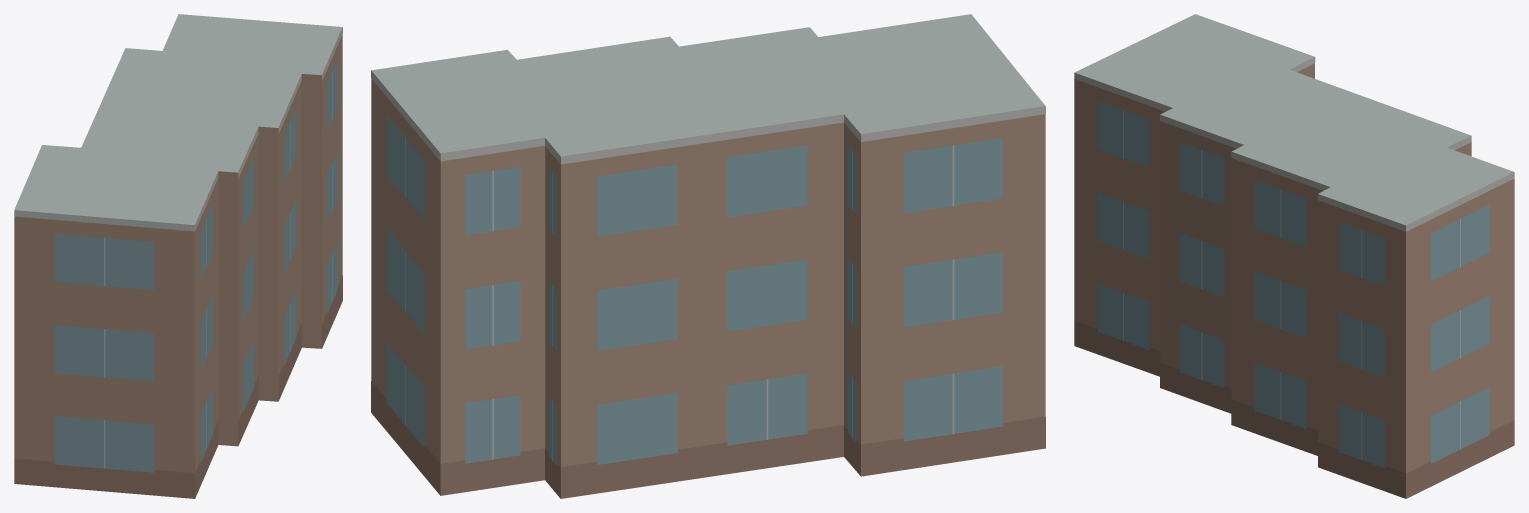
Rendered from survey-upis-32677777.glb.
The picture shows the model from 3 angles, left to right: view 1: azimuth 30°, elevation 25°; view 2: azimuth 150°, elevation 25°; view 3: azimuth 270°, elevation 25°; orthographic projection. The views are drawn at different scales.
Visible parts, largest first — view 1: survey-upis-32677777.tmp; view 2: survey-upis-32677777.tmp; view 3: survey-upis-32677777.tmp.
Part boxes in pixels (x1,y1,x2,y2): survey-upis-32677777.tmp: (14,14,342,498); survey-upis-32677777.tmp: (371,14,1045,498); survey-upis-32677777.tmp: (1074,14,1514,498).
Size of the model in its own units: 17.45 by 10.51 by 15.35.
